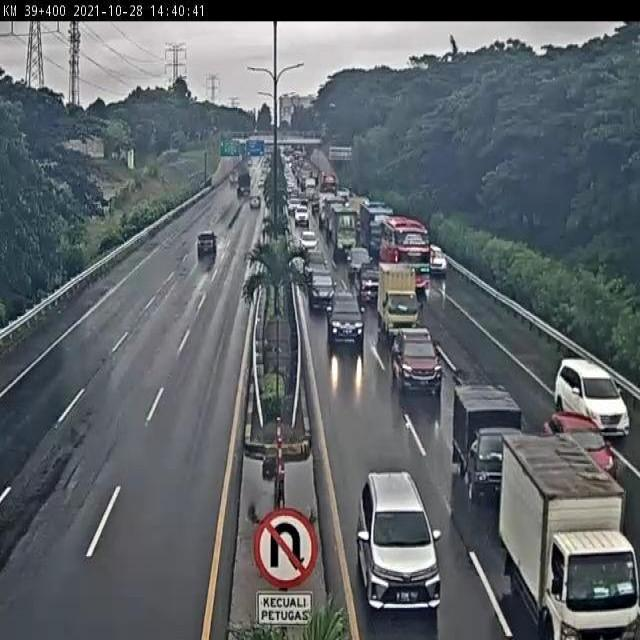big bus: (382, 218, 430, 294)
car: (358, 468, 440, 613), (557, 356, 630, 439), (544, 412, 615, 476), (392, 326, 442, 391), (326, 289, 363, 339), (308, 269, 335, 304), (346, 245, 372, 275), (195, 230, 219, 258), (359, 264, 379, 297), (304, 247, 328, 272)
small truck: (503, 446, 637, 640), (457, 385, 522, 492), (376, 261, 415, 331)
